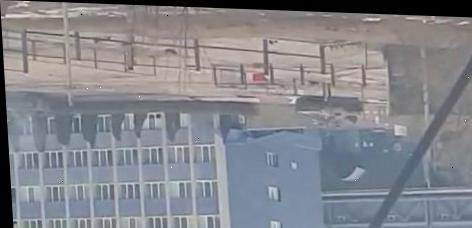tank: (5, 84, 53, 125), (294, 97, 363, 125)
